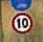limite 10: (10, 11, 34, 35)
